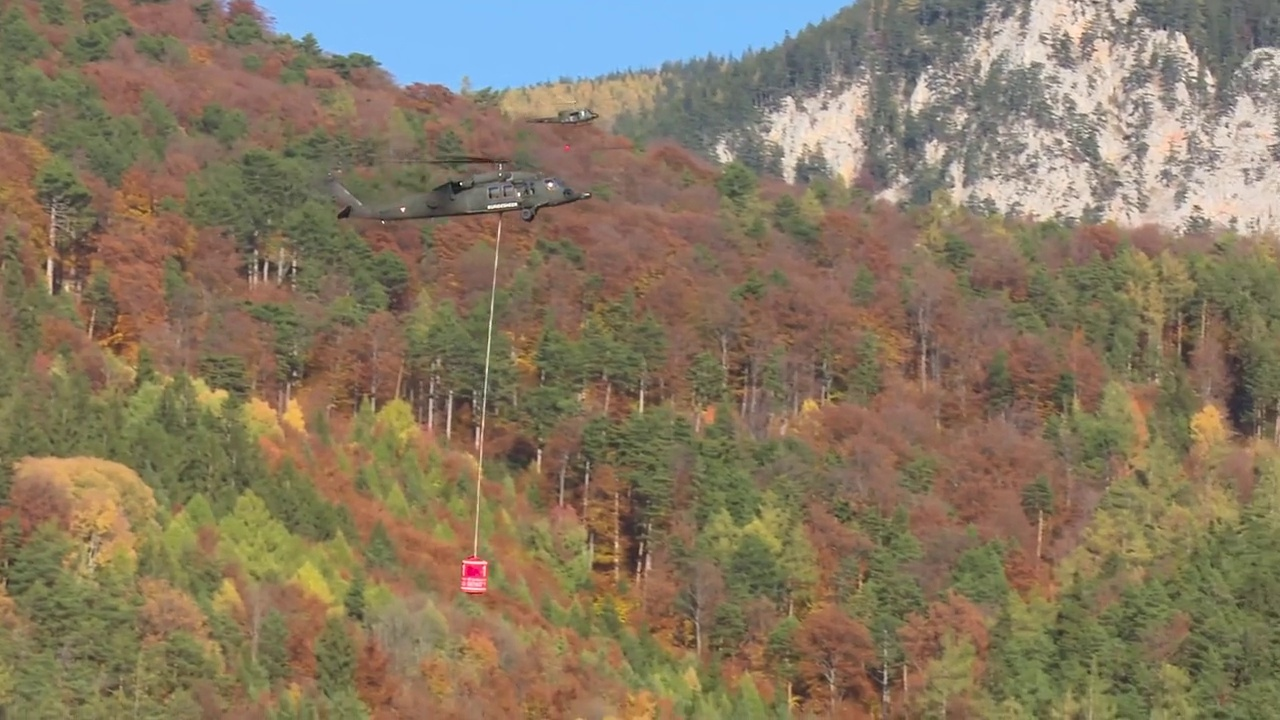heli: (331, 154, 594, 223), (526, 100, 598, 127)
